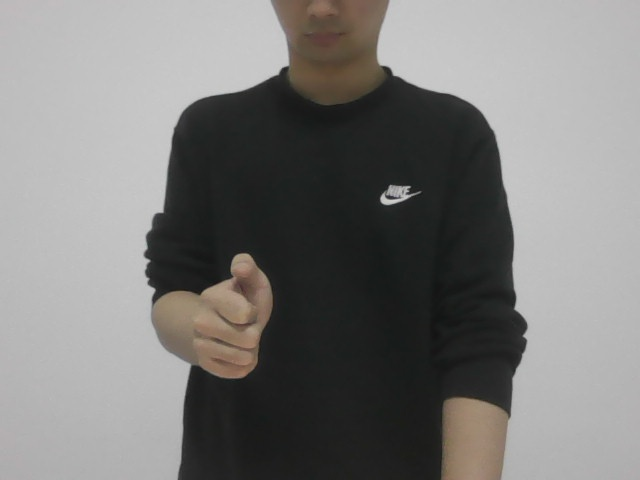thank you: (194, 251, 279, 384)
